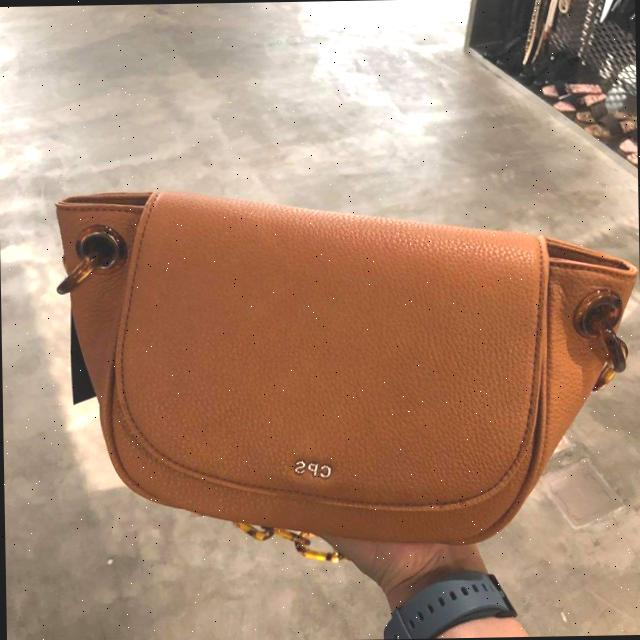handbag: (55, 177, 640, 550)
